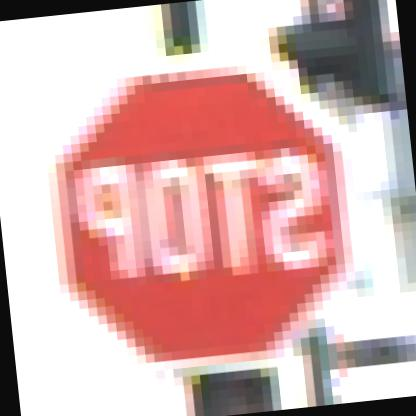stop: (11, 39, 370, 390)
